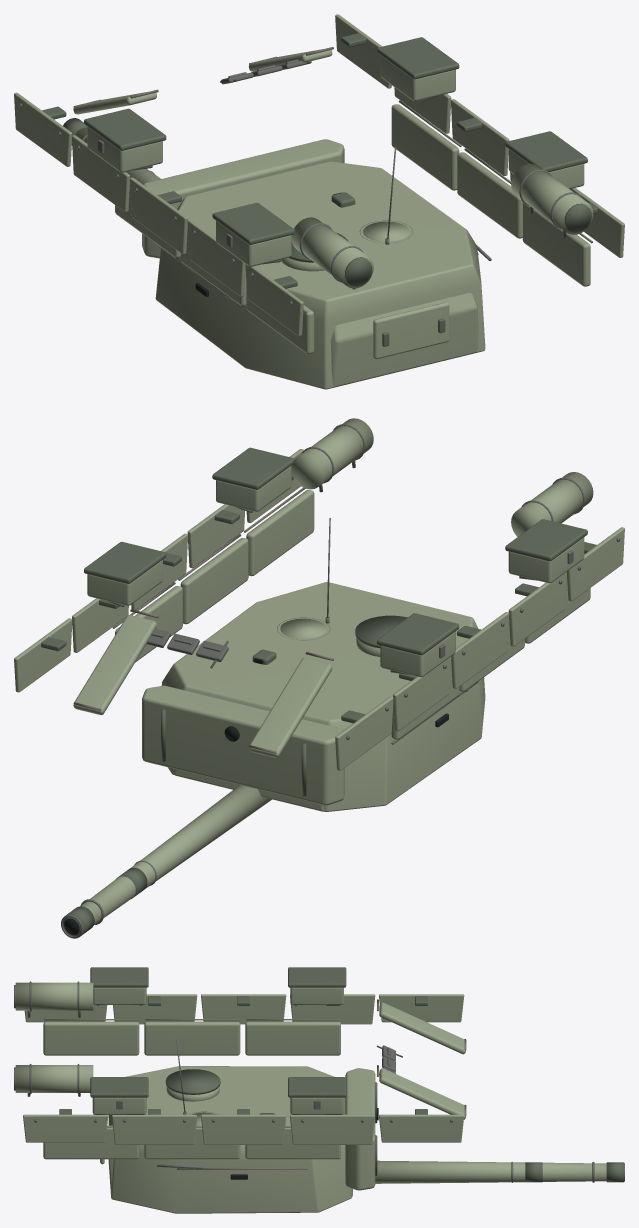
Rendered from t34-custom-parts.glb.
3 renders of one model, top to bottom at view 1: azimuth 30°, elevation 25°; view 2: azimuth 150°, elevation 25°; view 3: azimuth 270°, elevation 25°, orthographic. The views are drawn at different scales.
Parts seen in each view (by area): view 1: Box_turret_closed_armor, SideSkirts_RolledSteel_OlivePaint_PBR, HullArmored_RolledSteel_OlivePaint_PBR, StorageBoxes_PaintedSteel_DarkerEdges, Angled_turret_closed_armor, StorageBoxes_RolledSteel_OlivePaint_PBR, FuelTanks_RolledSteel_OlivePaint_PBR, MultiGun_cast_mantlet_shield, TurretAngled_CastTurret_PebbledOlive_PBR, FuelTanks_PaintedSteel_DarkerEdges, SideSkirts_PaintedSteel_DarkerEdges, TurretAngled_PaintedSteel_DarkerEdges (+2 smaller); view 2: Box_turret_closed_armor, SideSkirts_RolledSteel_OlivePaint_PBR, HullArmored_RolledSteel_OlivePaint_PBR, MultiGun_cast_mantlet_shield, StorageBoxes_PaintedSteel_DarkerEdges, StorageBoxes_RolledSteel_OlivePaint_PBR, FuelTanks_RolledSteel_OlivePaint_PBR, Long_Forged_taper, SideSkirts_PaintedSteel_DarkerEdges, TurretAngled_PaintedSteel_DarkerEdges, SpareTracks_TrackSteel, TurretAngled_CastTurret_PebbledOlive_PBR (+2 smaller); view 3: SideSkirts_RolledSteel_OlivePaint_PBR, Box_turret_closed_armor, HullArmored_RolledSteel_OlivePaint_PBR, StorageBoxes_PaintedSteel_DarkerEdges, Long_Forged_taper, FuelTanks_RolledSteel_OlivePaint_PBR, StorageBoxes_RolledSteel_OlivePaint_PBR, MultiGun_cast_mantlet_shield, TurretAngled_PaintedSteel_DarkerEdges, HullArmored_ExposedWeldMetal, SideSkirts_PaintedSteel_DarkerEdges, TurretAngled_CastTurret_PebbledOlive_PBR (+3 smaller).
Part boxes in pixels (x1,y1,x2,y2): Box_turret_closed_armor: (155,161,485,389); SideSkirts_RolledSteel_OlivePaint_PBR: (14,14,624,336); HullArmored_RolledSteel_OlivePaint_PBR: (73,49,590,353); StorageBoxes_PaintedSteel_DarkerEdges: (84,37,587,244); Angled_turret_closed_armor: (330,293,478,386); StorageBoxes_RolledSteel_OlivePaint_PBR: (87,55,584,266); FuelTanks_RolledSteel_OlivePaint_PBR: (291,163,593,288); MultiGun_cast_mantlet_shield: (142,139,344,258); TurretAngled_CastTurret_PebbledOlive_PBR: (281,221,449,359); FuelTanks_PaintedSteel_DarkerEdges: (345,203,591,286); SideSkirts_PaintedSteel_DarkerEdges: (42,33,597,288); TurretAngled_PaintedSteel_DarkerEdges: (289,192,445,346); Box_turret_closed_armor: (161,582,485,811); SideSkirts_RolledSteel_OlivePaint_PBR: (14,449,624,770); HullArmored_RolledSteel_OlivePaint_PBR: (73,490,590,757); MultiGun_cast_mantlet_shield: (142,685,344,805); StorageBoxes_PaintedSteel_DarkerEdges: (84,447,587,655); StorageBoxes_RolledSteel_OlivePaint_PBR: (87,465,584,677); FuelTanks_RolledSteel_OlivePaint_PBR: (291,418,593,536); Long_Forged_taper: (80,785,271,924); SideSkirts_PaintedSteel_DarkerEdges: (41,472,596,723); TurretAngled_PaintedSteel_DarkerEdges: (252,615,407,664); SpareTracks_TrackSteel: (146,628,228,661); TurretAngled_CastTurret_PebbledOlive_PBR: (280,618,380,656); SideSkirts_RolledSteel_OlivePaint_PBR: (23,994,464,1144); Box_turret_closed_armor: (111,1066,351,1213); HullArmored_RolledSteel_OlivePaint_PBR: (43,1002,466,1159); StorageBoxes_PaintedSteel_DarkerEdges: (90,967,346,1097); Long_Forged_taper: (375,1160,606,1183); FuelTanks_RolledSteel_OlivePaint_PBR: (15,982,93,1092); StorageBoxes_RolledSteel_OlivePaint_PBR: (92,987,343,1114); MultiGun_cast_mantlet_shield: (345,1068,375,1190); TurretAngled_PaintedSteel_DarkerEdges: (165,1069,275,1114); HullArmored_ExposedWeldMetal: (44,999,466,1127); SideSkirts_PaintedSteel_DarkerEdges: (59,996,427,1114); TurretAngled_CastTurret_PebbledOlive_PBR: (100,1086,219,1164).
Size of the model in its own units: 3.57 by 2.14 by 7.14.
